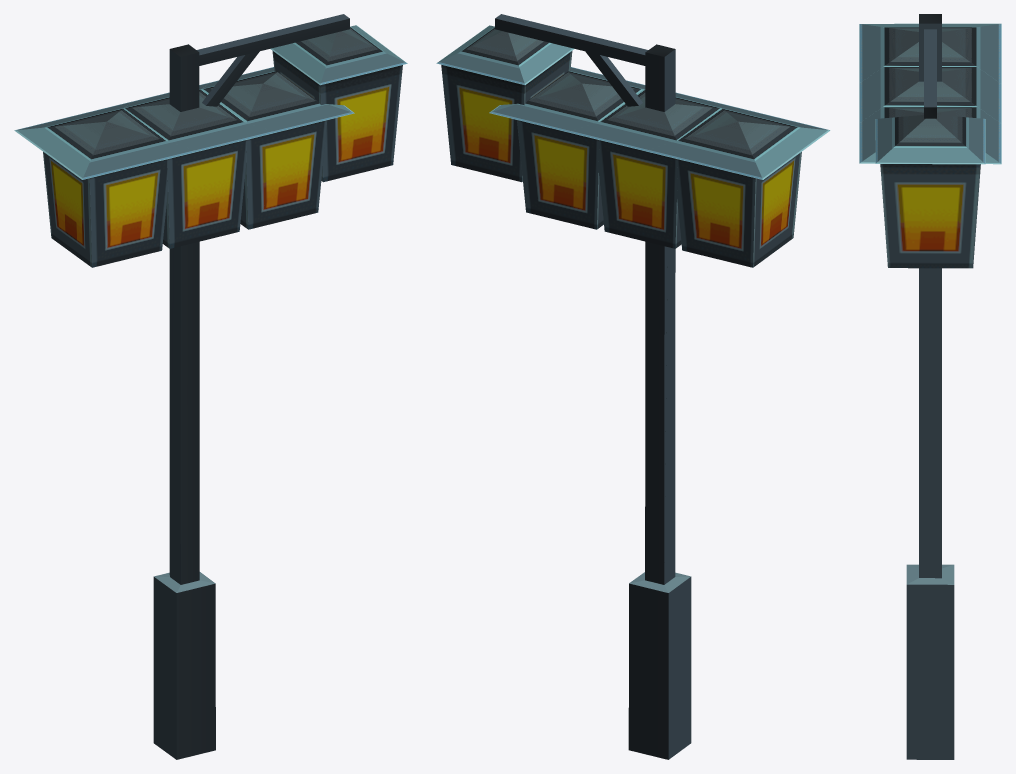
File: lamps.fbx
The picture shows the model from 3 angles, left to right: view 1: azimuth 30°, elevation 25°; view 2: azimuth 150°, elevation 25°; view 3: azimuth 270°, elevation 25°; orthographic projection. The views are drawn at different scales.
Parts seen in each view (by area): view 1: lamp_2, lamp_3, lamp_1; view 2: lamp_3, lamp_2, lamp_1; view 3: lamp_2, lamp_3, lamp_1.
Boxes of the visible parts, box(x1,y1,x2,y2) form: lamp_2: box(153, 14, 407, 759); lamp_3: box(14, 67, 354, 554); lamp_1: box(124, 82, 275, 584); lamp_3: box(489, 67, 830, 570); lamp_2: box(436, 14, 691, 759); lamp_1: box(567, 83, 721, 584); lamp_2: box(875, 14, 985, 759); lamp_3: box(859, 23, 1001, 164); lamp_1: box(859, 67, 1001, 123).
Size of the model in its own units: 3.53 by 7.02 by 1.24.
